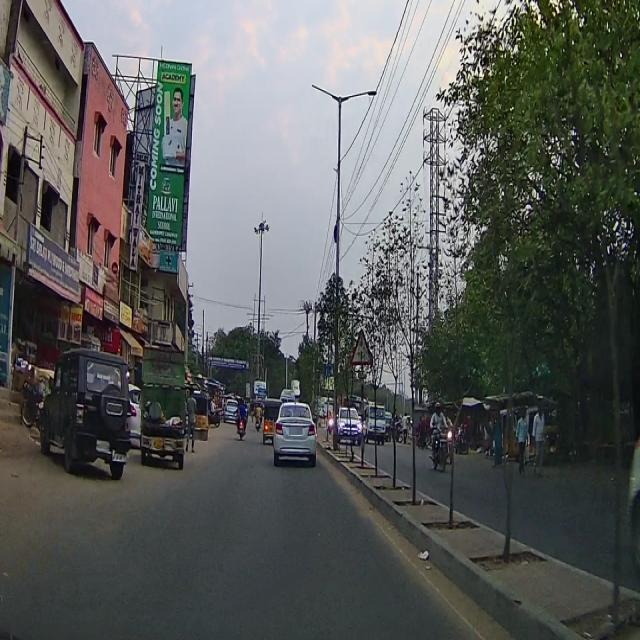gap-in-median: (350, 328, 374, 362)
